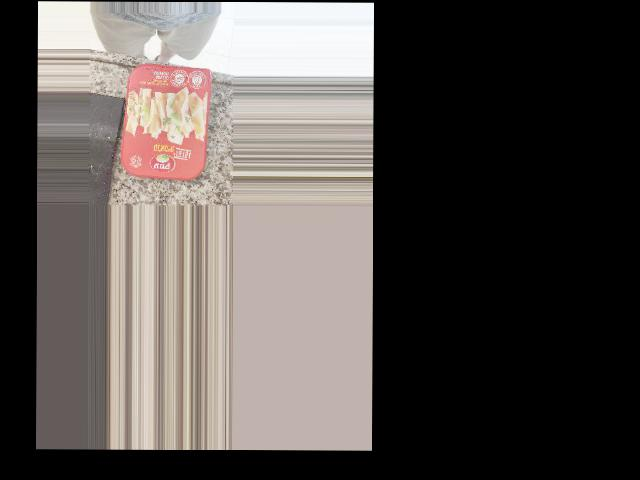cheese: (119, 44, 201, 157)
